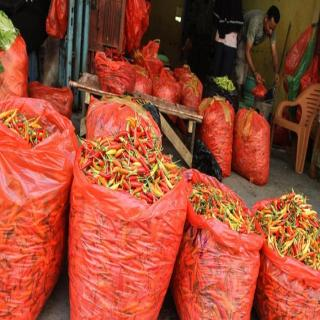Cabai Hijau: (69, 96, 190, 319), (1, 96, 79, 319)
